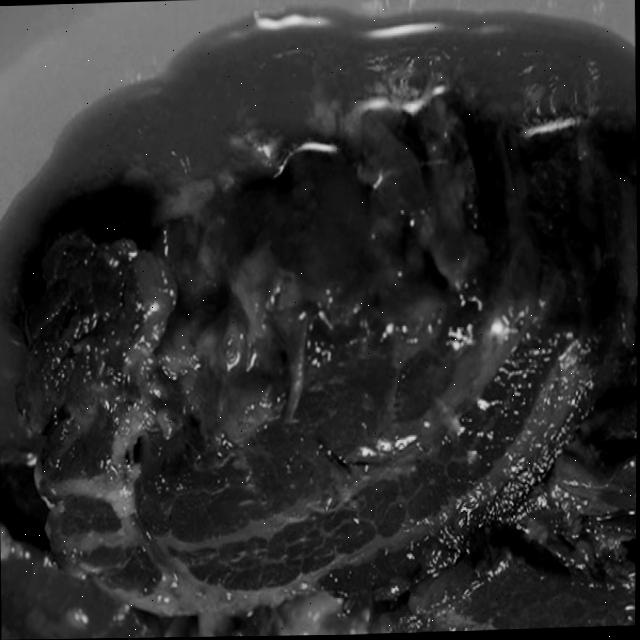猪肉菜式: (0, 95, 639, 640)
